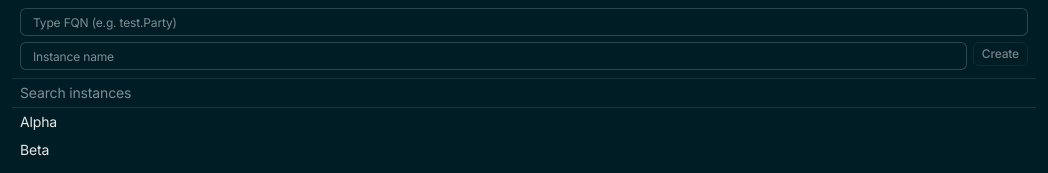
InstanceExplorerPanel › filters the list by the search box
This screenshot has width=1048, height=173.
Type "Alp" into the search field with placeholder "Search instances" at (524, 94), box [12,79,1036,108]
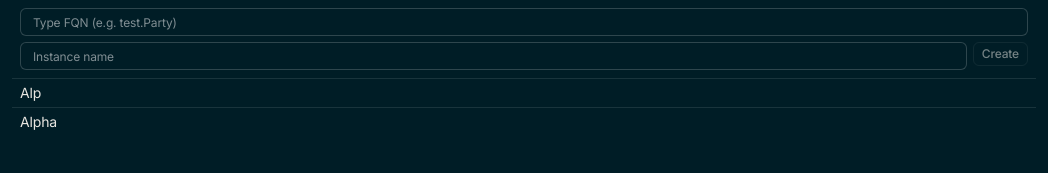
Check: the button "Alpha" is shown, box [12,108,1036,136]
Check: the button "Beta" is gone
